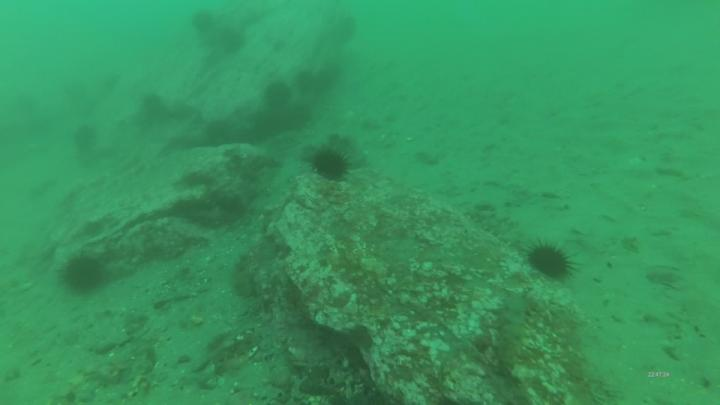echinus: (525, 238, 579, 288), (62, 252, 110, 300), (310, 146, 353, 185), (263, 80, 295, 112), (332, 13, 363, 45), (188, 7, 219, 38), (72, 123, 102, 155), (216, 27, 248, 57), (314, 63, 344, 94), (140, 91, 167, 124)
holothurian: (494, 288, 532, 382), (462, 207, 522, 256)
